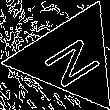N_NE: (35, 27, 105, 88)
